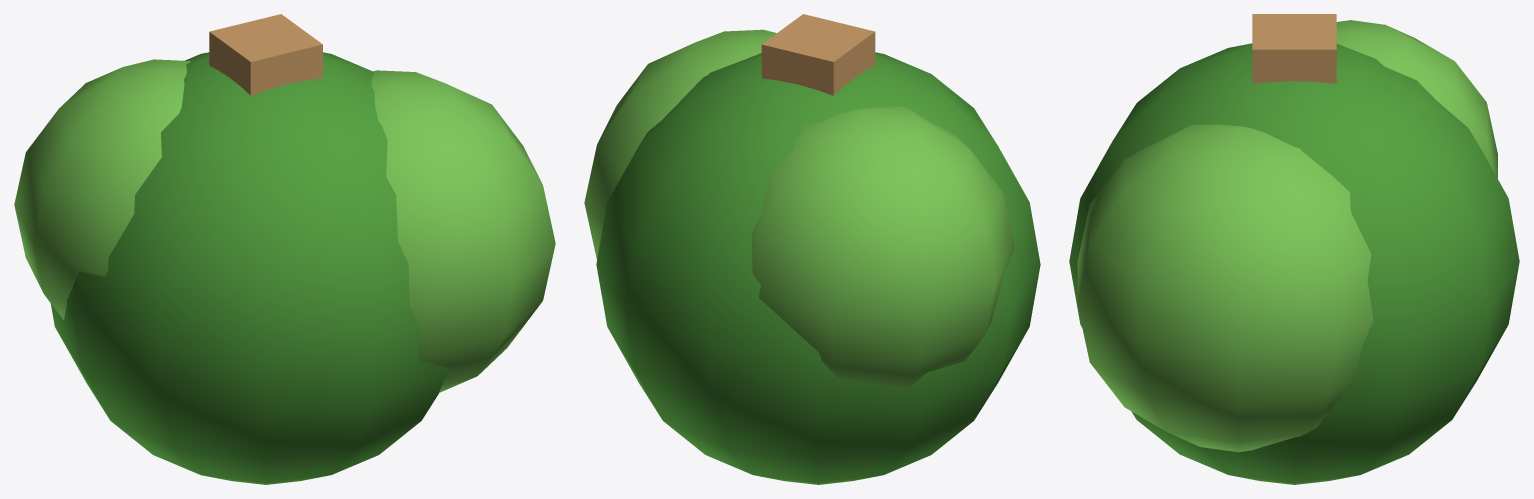
Rendered from props.glb.
3 renders of one model, left to right at view 1: azimuth 30°, elevation 25°; view 2: azimuth 150°, elevation 25°; view 3: azimuth 270°, elevation 25°, orthographic.
Parts seen in each view (by area): view 1: Bush, FencePost; view 2: Bush, FencePost; view 3: Bush, FencePost.
Boxes of the visible parts, box(x1,y1,x2,y2) form: Bush: box(14, 52, 555, 484); FencePost: box(209, 14, 322, 95); Bush: box(584, 29, 1040, 484); FencePost: box(761, 14, 875, 95); Bush: box(1069, 20, 1519, 484); FencePost: box(1252, 14, 1336, 83).
Size of the model in its own units: 18.5 by 17 by 16.
